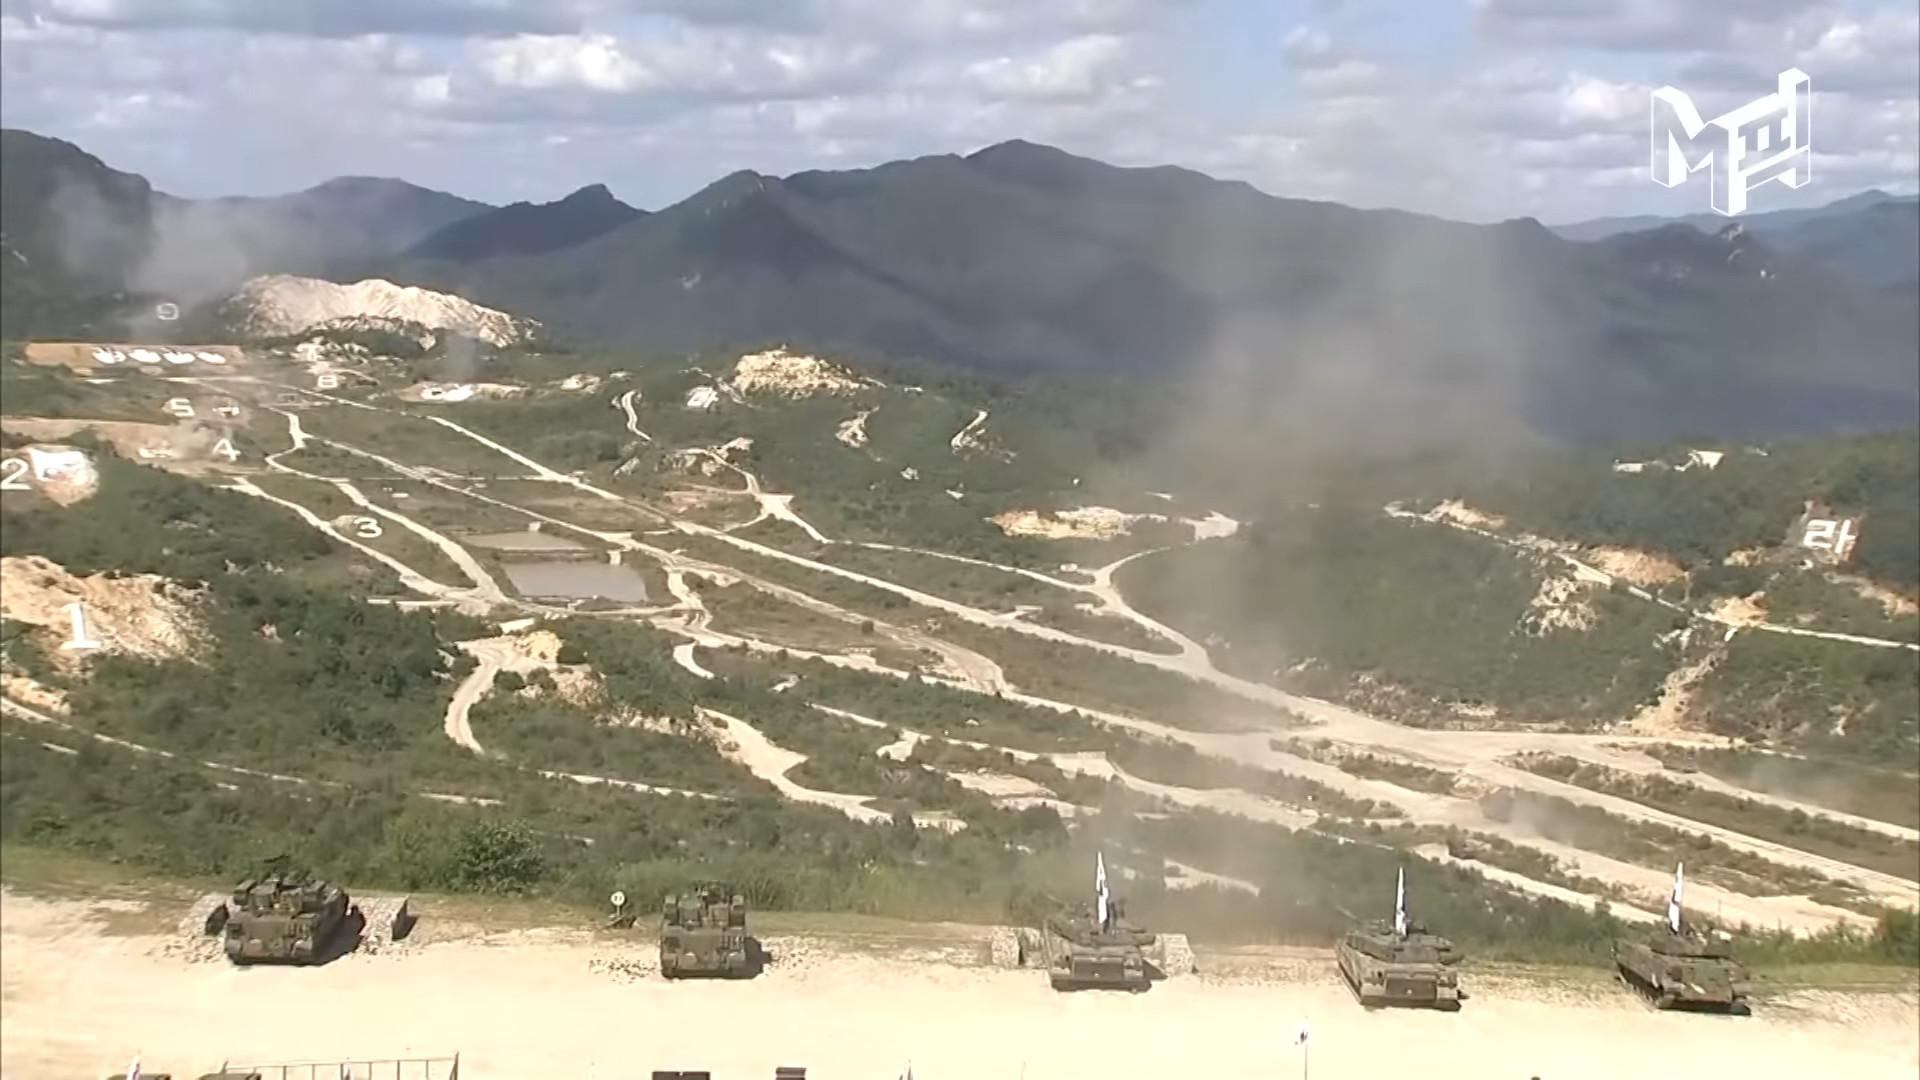tank: (1335, 903, 1465, 1009), (224, 855, 348, 965), (1610, 920, 1751, 1014), (1036, 889, 1155, 989), (661, 880, 748, 980)
